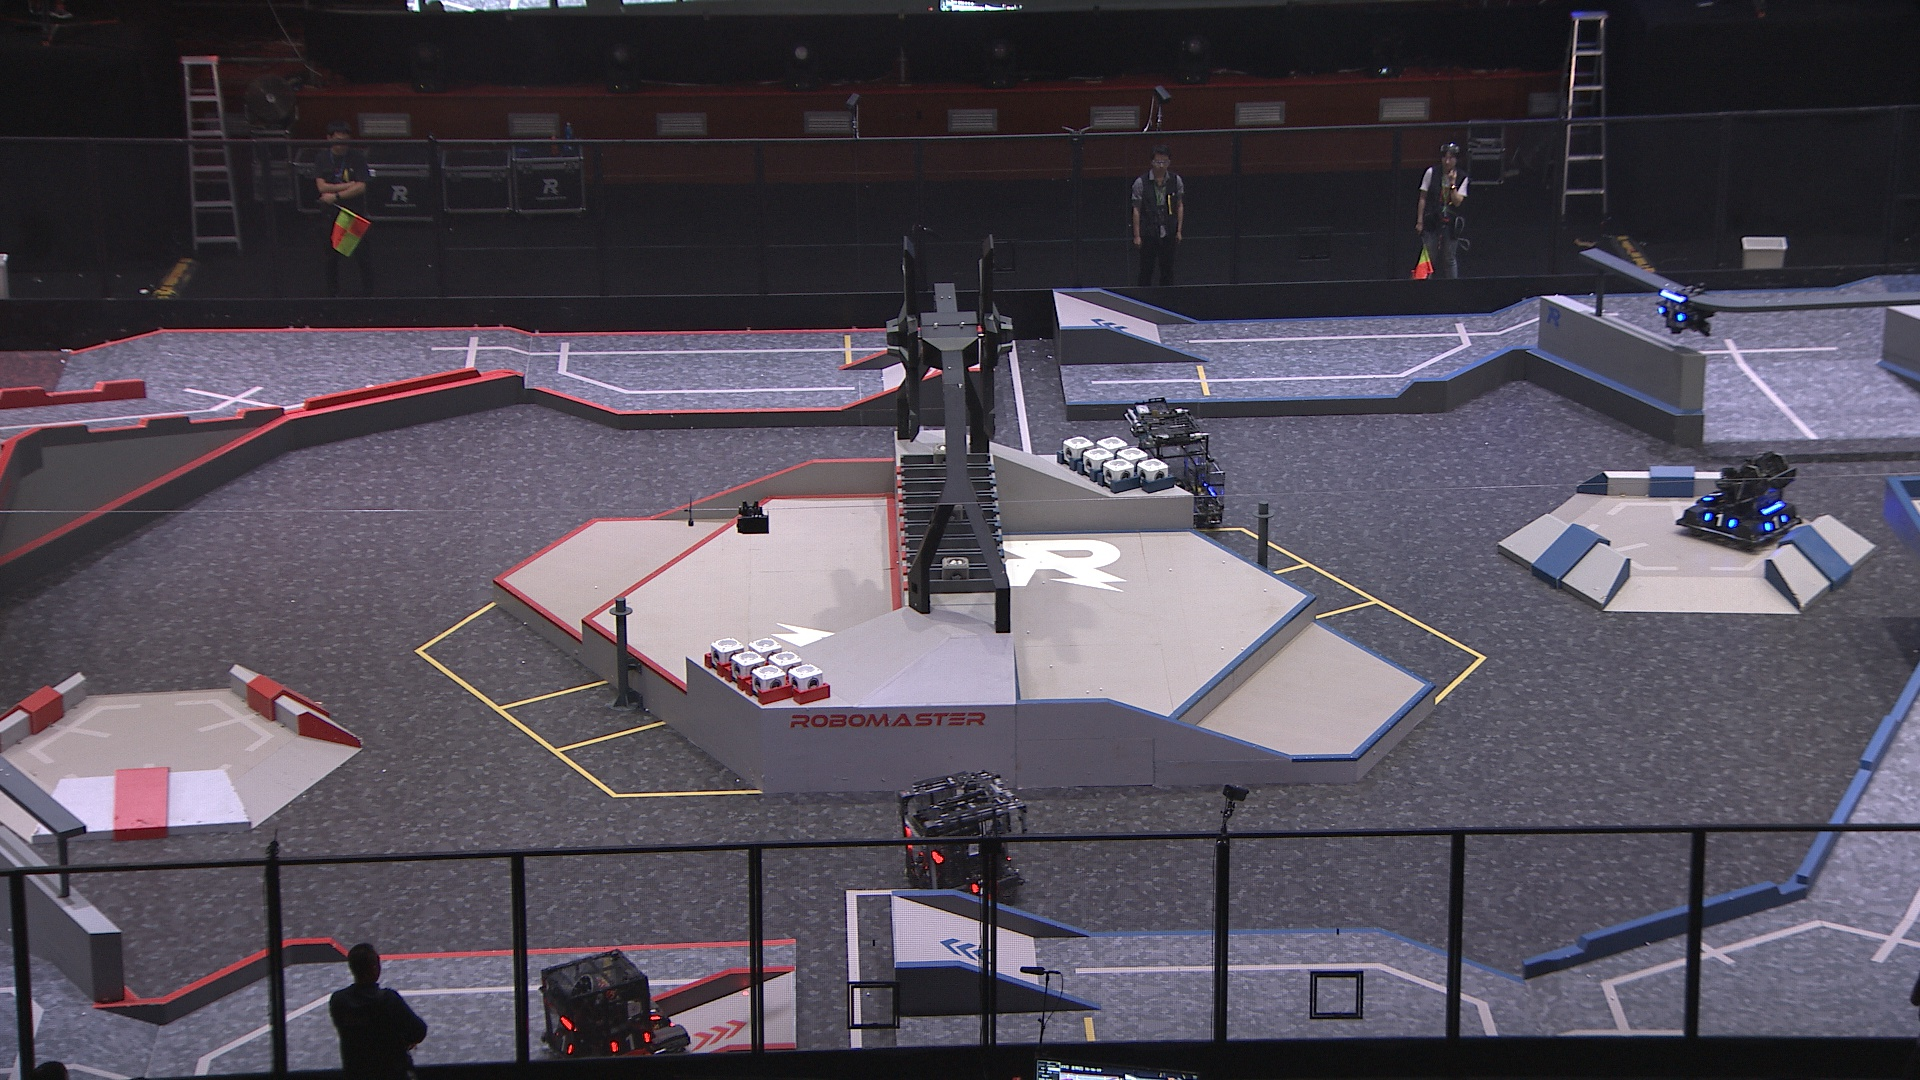armor: (609, 1033, 651, 1054), (1702, 512, 1738, 529), (1654, 305, 1687, 323), (551, 1033, 575, 1058), (642, 1005, 667, 1025), (1762, 514, 1789, 531), (971, 880, 992, 895), (1698, 489, 1724, 502)
car: (534, 944, 694, 1079), (899, 769, 1031, 910), (1117, 398, 1229, 527), (1671, 454, 1807, 547)
watcher: (1647, 282, 1716, 339)
